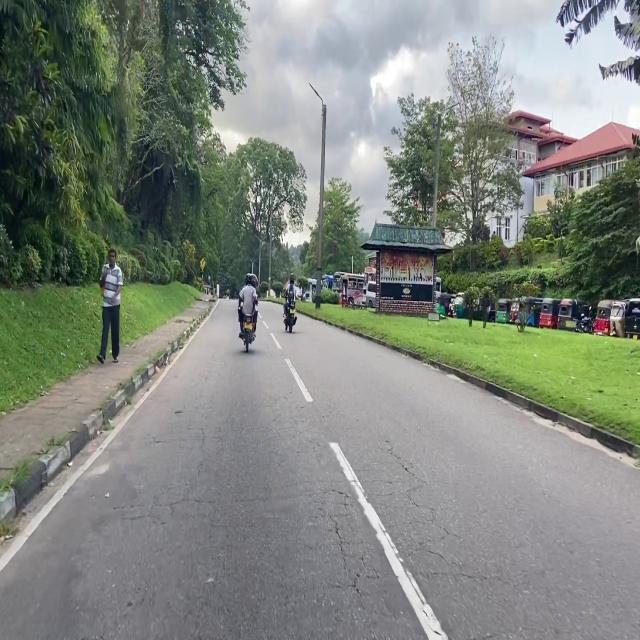bus: (333, 271, 365, 306), (361, 267, 376, 303), (307, 277, 316, 302), (322, 274, 334, 289)
motorcycle: (575, 308, 593, 334), (242, 316, 254, 352), (284, 298, 296, 332)
person: (97, 249, 122, 363), (238, 274, 258, 335), (284, 274, 295, 316)
three wheeler: (557, 299, 586, 329), (518, 297, 542, 327), (594, 300, 614, 335), (540, 299, 560, 328), (610, 301, 626, 337), (436, 292, 454, 316), (452, 293, 467, 318), (496, 299, 511, 323), (510, 299, 519, 324)
van: (365, 281, 376, 308)
